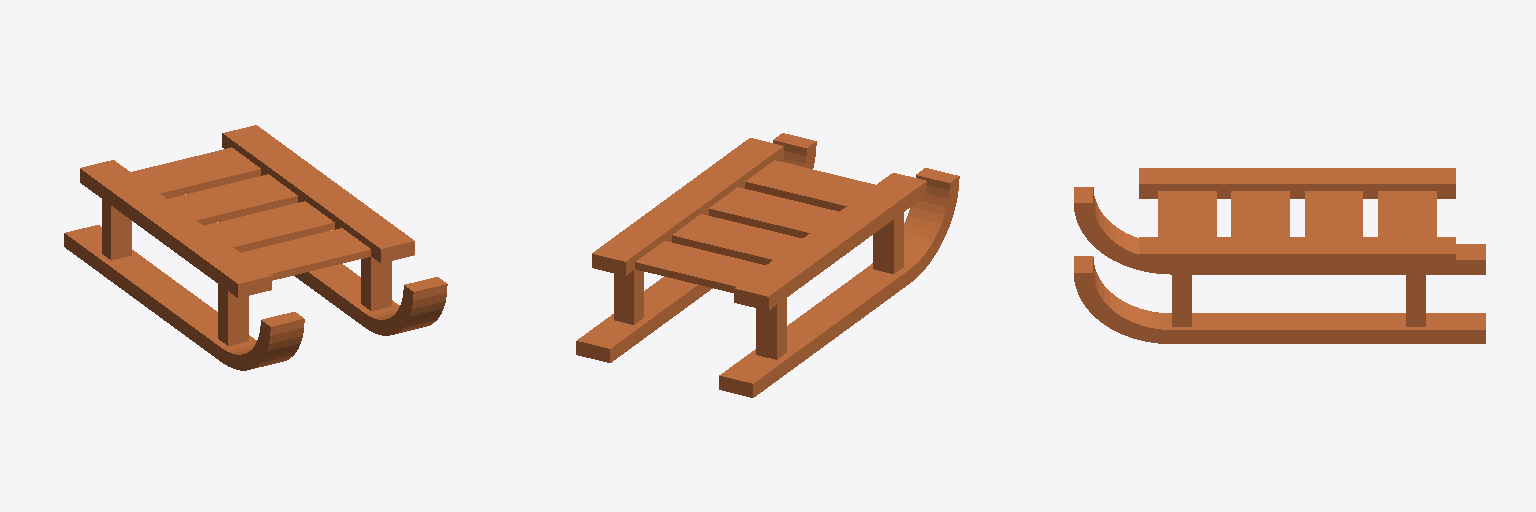
File: sled.obj
3 renders of one model, left to right at view 1: azimuth 30°, elevation 25°; view 2: azimuth 150°, elevation 25°; view 3: azimuth 270°, elevation 25°, orthographic.
Visible parts, largest first — view 1: sled Mesh; view 2: sled Mesh; view 3: sled Mesh.
Part boxes in pixels (x1,y1,x2,y2): sled Mesh: (64,125,447,370); sled Mesh: (576,133,959,397); sled Mesh: (1074,168,1485,343).
Bounding box in the file's own units: 0.39 × 0.1901 × 0.7875.